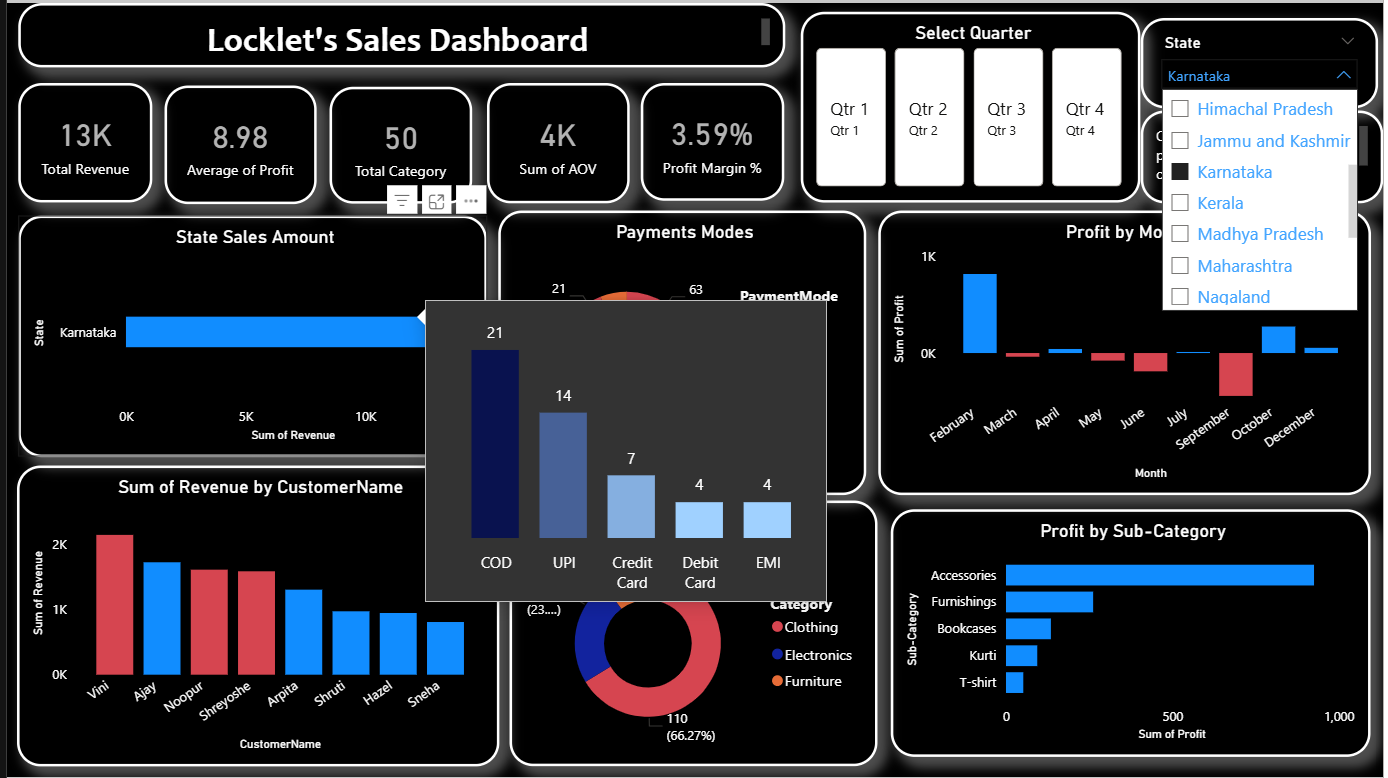

This screenshot's page, from the dashboard's own definition file:
{"tool":"powerbi","page":{"name":"Page 1","canvas":[1280,720],"ordinal":0},"visuals":[{"type":"textbox","box":[10,0,713.8,60],"z":0},{"type":"donutChart","title":"Quantity of Category","fields":{"Category":["Details.Category"],"Y":["Sum(Details.Quantity)"]},"box":[467.5,462.5,342.5,247.5],"z":1000},{"type":"clusteredColumnChart","title":"Profit by Month","fields":{"Y":["Sum(Details.Profit)"],"Category":["Orders.Order Date.Variation.Date Hierarchy.Month"]},"box":[810,192.5,458.8,265],"z":2000},{"type":"barChart","title":"Profit by Sub-Category","fields":{"Category":["Details.Sub-Category"],"Y":["Sum(Details.Profit)"]},"box":[822.5,471.2,446.2,230],"z":3000},{"type":"donutChart","title":"Quantity of Category","fields":{"Y":["Sum(Details.Quantity)"],"Category":["Details.PaymentMode"]},"box":[457.5,192.5,342.5,265],"z":4000},{"type":"card","fields":{"Values":["Sum(Details.Amount)"]},"box":[10,75,125,111.2],"z":5000},{"type":"card","fields":{"Values":["Avg(Details.Profit)"]},"box":[146.2,76.2,141.2,110],"z":6000},{"type":"card","fields":{"Values":["CountNonNull(Details.Category)"]},"box":[300,77.5,132.5,108.8],"z":7000},{"type":"card","fields":{"Values":["Sum(Details.AOV)"]},"box":[446.2,75,128.8,111.2],"z":8000},{"type":"barChart","title":"State Sales Amount","fields":{"Category":["Orders.State"],"Y":["Sum(Details.Amount)"]},"box":[10,197.5,436.2,225],"z":9000},{"type":"columnChart","fields":{"Category":["Orders.CustomerName"],"Y":["Sum(Details.Amount)"]},"box":[8.8,430,448.8,280],"z":10000},{"type":"advancedSlicerVisual","title":"Select Quarter","fields":{"Values":["Orders.Order Date.Variation.Date Hierarchy.Quarter"],"Label":["Min(Orders.Order Date.Variation.Date Hierarchy.Quarter)"]},"box":[738.5,8.4,301.4,177.7],"z":11000},{"type":"slicer","fields":{"Values":["Orders.State"]},"box":[1045.4,51.2,230.2,93],"z":12000},{"type":"card","fields":{"Values":["Details.Profit Margin %"]},"box":[589.6,74.4,133.3,109.3],"z":13000}]}

Visuals, with their boxes in screenshot pixels (x1, y1, x2, y2), scaled from the page's 1280x720 canvas onto the 1388x778 screenshot:
textbox: {"left": 11, "top": 0, "right": 785, "bottom": 65}
"Quantity of Category" donutChart: {"left": 507, "top": 500, "right": 878, "bottom": 767}
"Profit by Month" clusteredColumnChart: {"left": 878, "top": 208, "right": 1376, "bottom": 494}
"Profit by Sub-Category" barChart: {"left": 892, "top": 509, "right": 1376, "bottom": 758}
"Quantity of Category" donutChart: {"left": 496, "top": 208, "right": 868, "bottom": 494}
card - Sum(Details.Amount): {"left": 11, "top": 81, "right": 146, "bottom": 201}
card - Avg(Details.Profit): {"left": 159, "top": 82, "right": 312, "bottom": 201}
card - CountNonNull(Details.Category): {"left": 325, "top": 84, "right": 469, "bottom": 201}
card - Sum(Details.AOV): {"left": 484, "top": 81, "right": 624, "bottom": 201}
"State Sales Amount" barChart: {"left": 11, "top": 213, "right": 484, "bottom": 457}
columnChart - Orders.CustomerName x Sum(Details.Amount): {"left": 10, "top": 465, "right": 496, "bottom": 767}
"Select Quarter" advancedSlicerVisual: {"left": 801, "top": 9, "right": 1128, "bottom": 201}
slicer - Orders.State: {"left": 1134, "top": 55, "right": 1383, "bottom": 156}
card - Details.Profit Margin %: {"left": 639, "top": 80, "right": 784, "bottom": 198}
